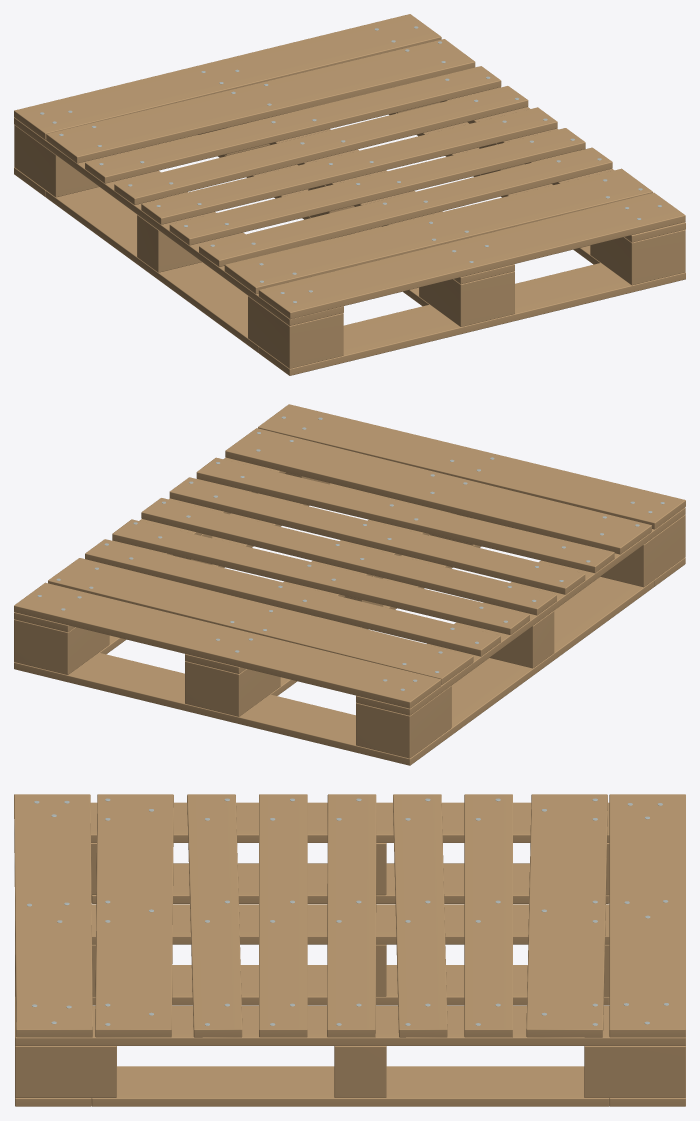
Rendered from pallet_block_c01.glb.
3 views of the same model, one above another, from view 1: azimuth 30°, elevation 25°; view 2: azimuth 150°, elevation 25°; view 3: azimuth 270°, elevation 25° (orthographic). The views are drawn at different scales.
Bounding box in the file's own units: 1.02 × 0.1579 × 1.23.
